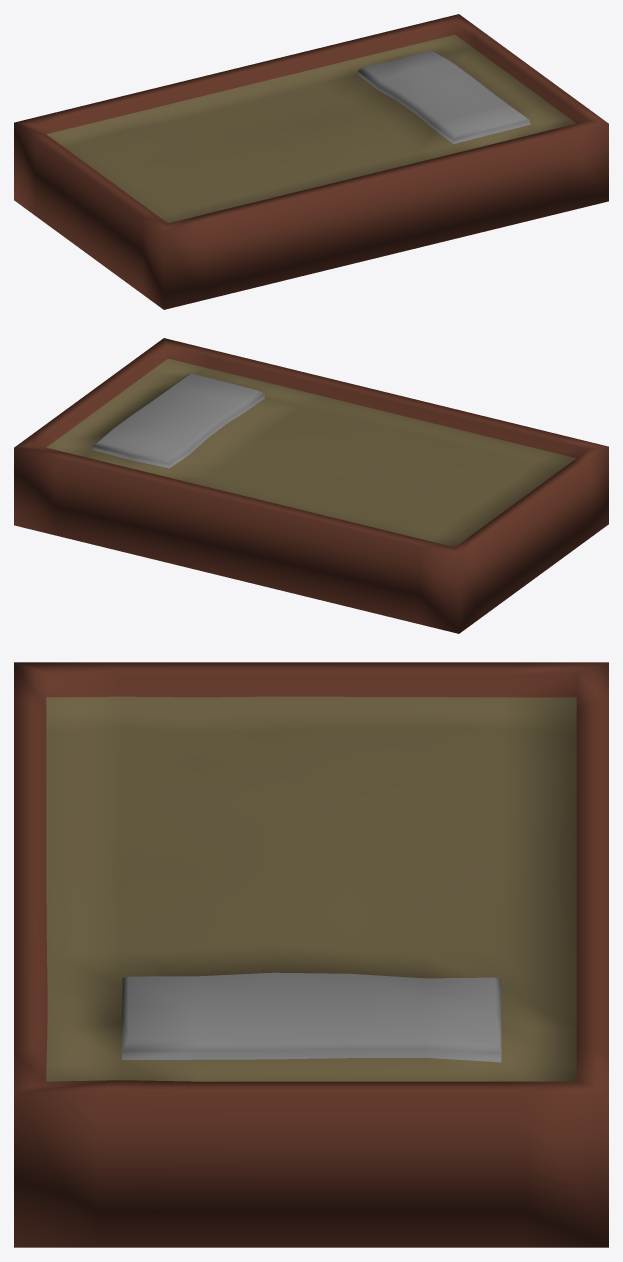
The model's file is NivekBed.glb.
3 renders of one model, top to bottom at view 1: azimuth 30°, elevation 25°; view 2: azimuth 150°, elevation 25°; view 3: azimuth 270°, elevation 25°, orthographic. The views are drawn at different scales.
Visible parts, largest first — view 1: NivekBed; view 2: NivekBed; view 3: NivekBed.
Boxes of the visible parts, x1,y1,x2,y2 form: NivekBed: [14, 14, 608, 309]; NivekBed: [14, 338, 608, 633]; NivekBed: [14, 662, 608, 1247].
Bounding box in the file's own units: 3 × 0.5054 × 1.75.
Materials: 1 (1 with a texture image).
